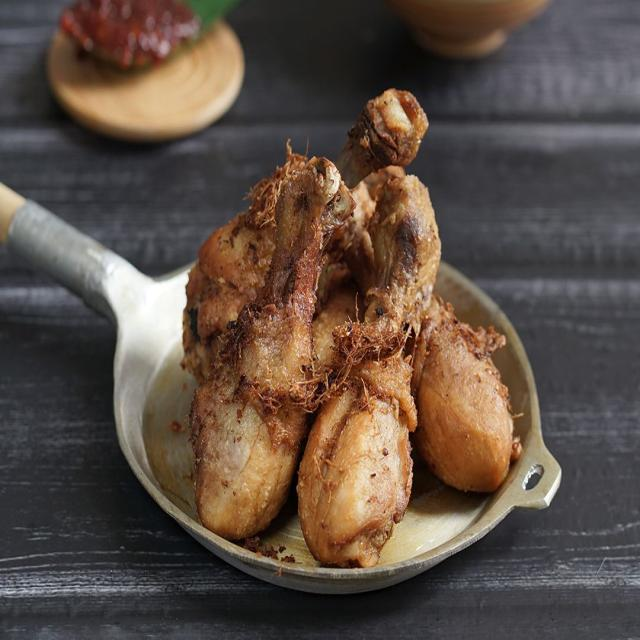Chicken -Fried Chicken-: (293, 170, 445, 575), (192, 153, 346, 541)
